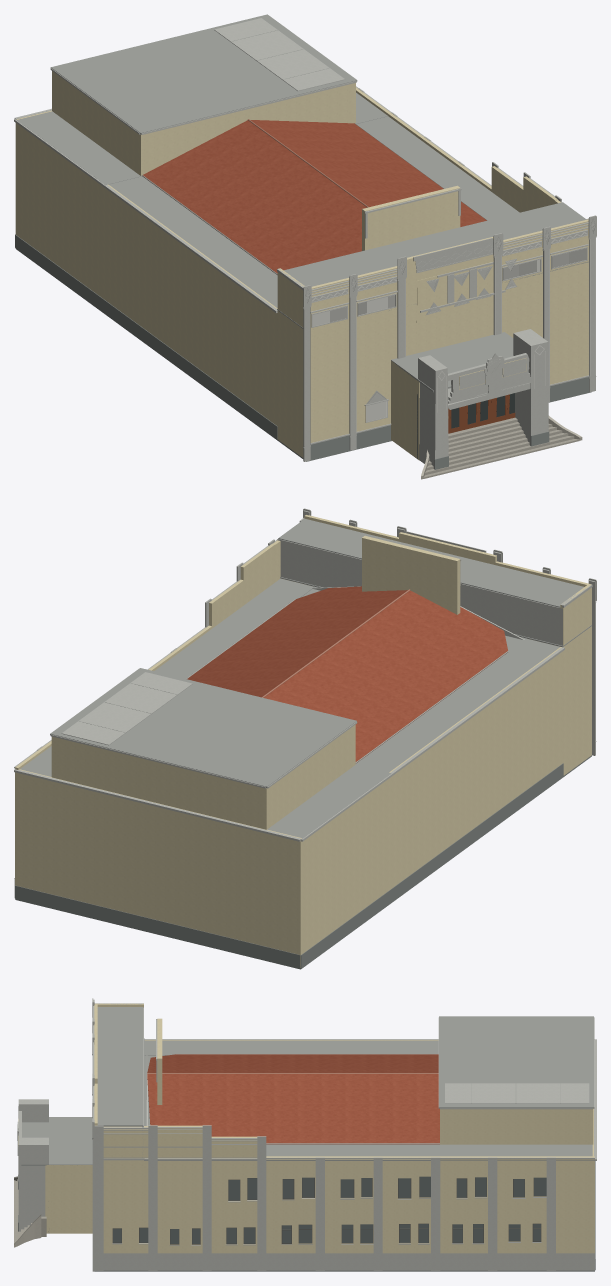
File: xuhui-shanghai-high-school-historic-auditorium-raw.glb
3 renders of one model, top to bottom at view 1: azimuth 30°, elevation 25°; view 2: azimuth 150°, elevation 25°; view 3: azimuth 270°, elevation 25°, orthographic. The views are drawn at different scales.
Visible parts, largest first — view 1: 上海中学历史大礼堂; view 2: 上海中学历史大礼堂; view 3: 上海中学历史大礼堂.
Part boxes in pixels (x1=…): 上海中学历史大礼堂: x1=14, y1=14, x2=596, y2=479; 上海中学历史大礼堂: x1=14, y1=508, x2=596, y2=969; 上海中学历史大礼堂: x1=14, y1=998, x2=596, y2=1271.
Bounding box in the file's own units: 32.35 × 21.21 × 64.75.
16 materials, 4 textured.
